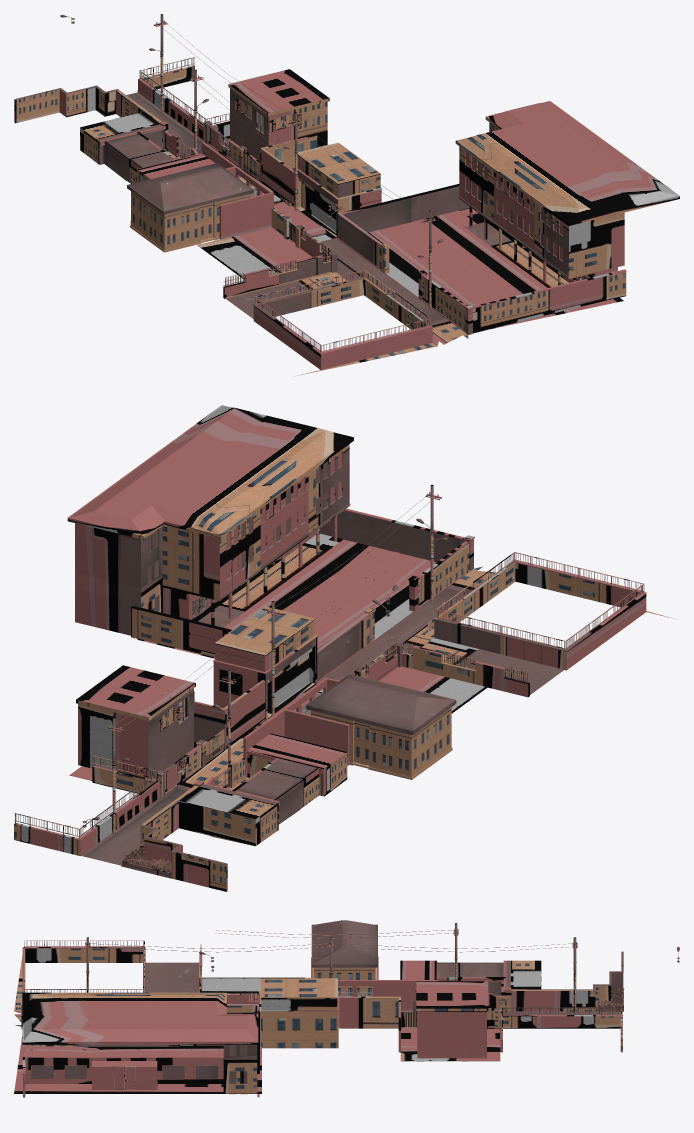
Rendered from Environment1.fbx.
3 views of the same model, one above another, from view 1: azimuth 30°, elevation 25°; view 2: azimuth 150°, elevation 25°; view 3: azimuth 270°, elevation 25° (orthographic). The views are drawn at different scales.
Visible parts, largest first — view 1: Old Building, street, wall 14, Building 01, Building 04, wall 1, wall 03, Building 05; view 2: Old Building, street, wall 14, Building 04, Building 01, wall 1, Building 05, wall 03, port.006, port.003; view 3: Old Building, Building 04, street, wall 1, Building 01, wall 03, Building 05, wall 14, port.005, port.006, port.003, leaves 04 (+1 smaller).
Boxes of the visible parts, box(x1,y1,x2,y2) form: Old Building: box(455, 101, 679, 287); street: box(126, 92, 623, 376); wall 14: box(253, 184, 626, 369); Building 01: box(127, 142, 273, 252); Building 04: box(203, 69, 369, 279); wall 1: box(223, 142, 382, 298); wall 03: box(14, 57, 229, 149); Building 05: box(80, 112, 215, 183); Old Building: box(67, 405, 353, 635); street: box(69, 539, 675, 865); wall 14: box(131, 508, 646, 682); Building 04: box(76, 613, 439, 797); Building 01: box(243, 674, 456, 779); wall 1: box(213, 606, 529, 719); Building 05: box(179, 733, 347, 846); wall 03: box(14, 755, 227, 891); port.006: box(275, 484, 441, 611); port.003: box(116, 601, 282, 727); Old Building: box(22, 992, 258, 1094); Building 04: box(339, 981, 500, 1058); street: box(14, 955, 622, 1093); wall 1: box(199, 944, 339, 1048); Building 01: box(311, 920, 437, 1011); wall 03: box(500, 951, 623, 1052); Building 05: box(400, 960, 541, 1011); wall 14: box(20, 940, 259, 1097); port.005: box(215, 923, 458, 981); port.006: box(85, 937, 328, 992); port.003: box(329, 937, 572, 978); leaves 04: box(595, 986, 624, 1010).
Size of the model in its own units: 3896 by 957 by 6390.
10 materials, 10 textured.
